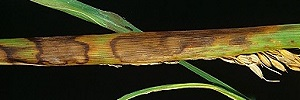RiceSheathBrownRot: (2, 27, 300, 71)
